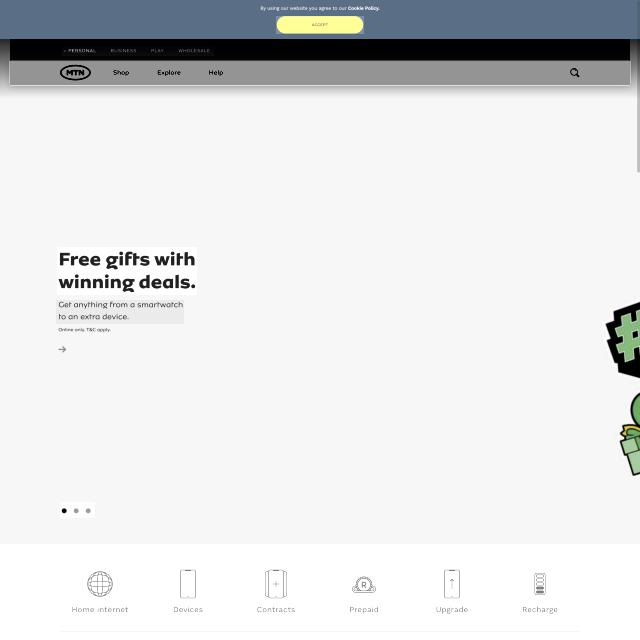CheckBox: (276, 16, 364, 34)
Input field: (56, 300, 184, 324)
bag: (10, 39, 630, 85)
carousel: (569, 67, 582, 80)
date picker: (59, 64, 93, 81)
decoration: (60, 562, 566, 628), (109, 67, 227, 80), (62, 46, 214, 56)
dropdown: (60, 502, 95, 518)
header: (0, 0, 640, 39)
image: (57, 247, 197, 295)
